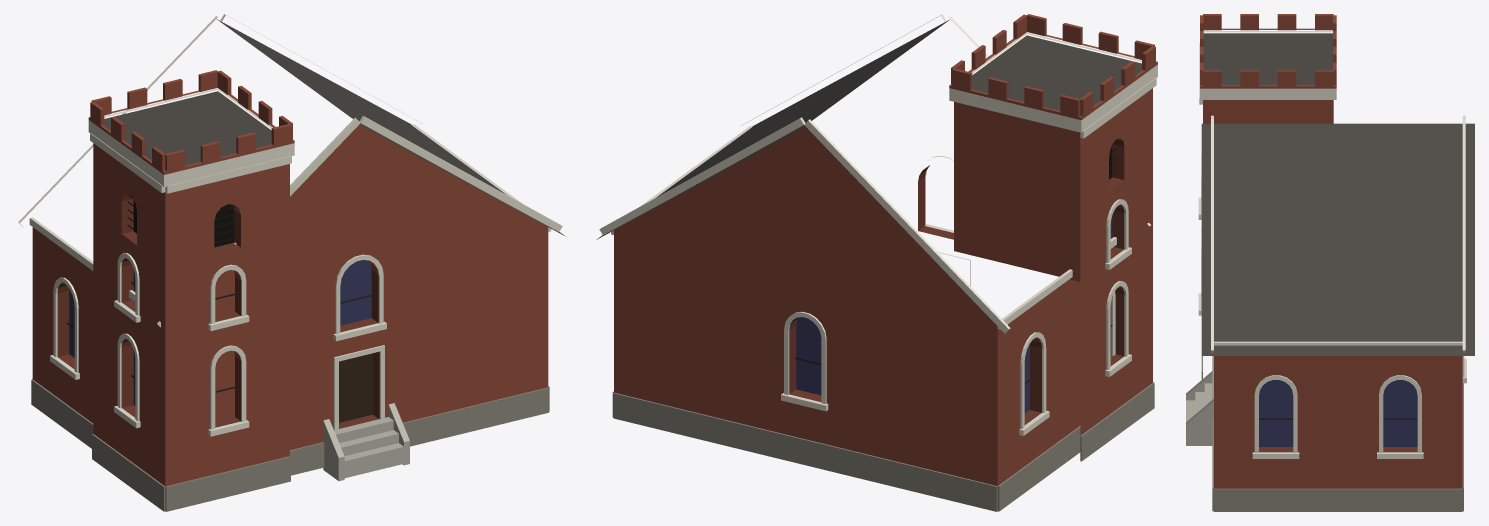
File: ch-cottage-universalist-chapel-1913.glb
The picture shows the model from 3 angles, left to right: view 1: azimuth 30°, elevation 25°; view 2: azimuth 150°, elevation 25°; view 3: azimuth 270°, elevation 25°; orthographic projection. The views are drawn at different scales.
Parts seen in each view (by area): view 1: kit-ch-cottage-universalist-chapel-1913; view 2: kit-ch-cottage-universalist-chapel-1913; view 3: kit-ch-cottage-universalist-chapel-1913.
Part boxes in pixels (x1,y1,x2,y2): kit-ch-cottage-universalist-chapel-1913: [18, 14, 565, 511]; kit-ch-cottage-universalist-chapel-1913: [596, 14, 1157, 511]; kit-ch-cottage-universalist-chapel-1913: [1186, 14, 1474, 511].
Size of the model in its own units: 13.68 by 11.6 by 9.3.
